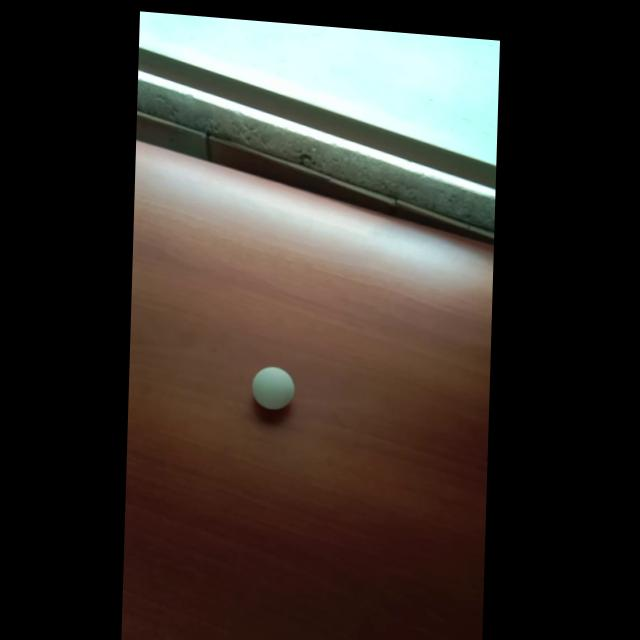white ball: (251, 364, 296, 412)
